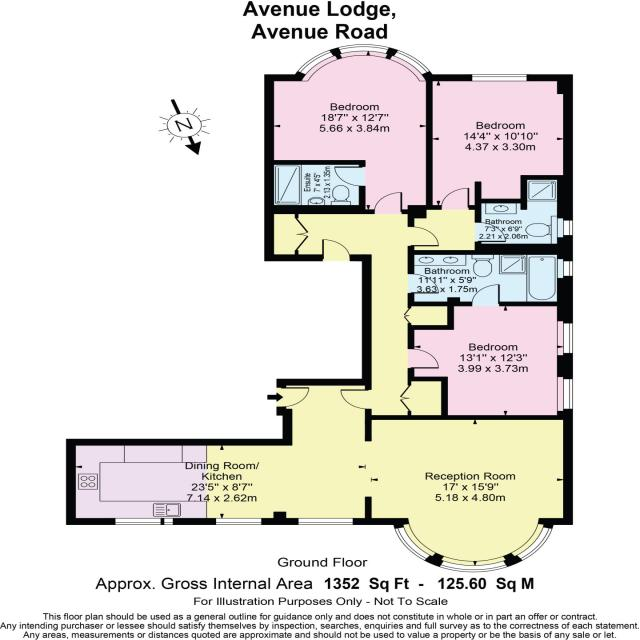DOOR: (276, 385, 314, 409), (407, 344, 441, 370), (338, 384, 372, 410), (371, 191, 408, 214), (319, 237, 353, 261), (332, 164, 366, 188), (469, 283, 503, 306), (408, 225, 441, 248), (438, 187, 472, 209)
ROOM: (65, 378, 574, 575), (261, 43, 432, 214), (409, 284, 575, 420), (426, 72, 574, 211)
WINDOW: (508, 521, 556, 564), (391, 522, 439, 563), (293, 47, 340, 82), (435, 553, 513, 574), (388, 48, 433, 82), (334, 42, 394, 60), (295, 516, 354, 527), (469, 73, 531, 83), (113, 517, 174, 526), (213, 517, 265, 526), (562, 321, 575, 355), (562, 377, 574, 411), (562, 217, 575, 236), (563, 258, 574, 278)
